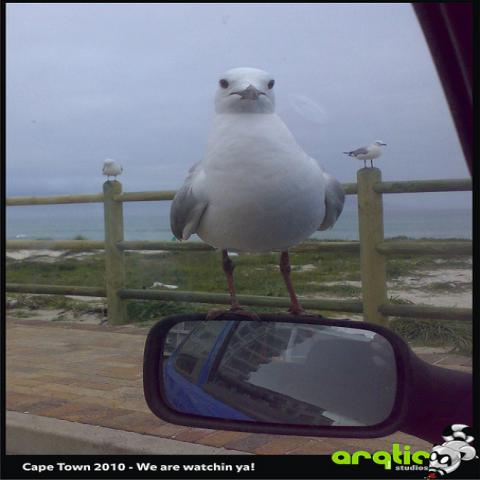car: (146, 316, 476, 463)
